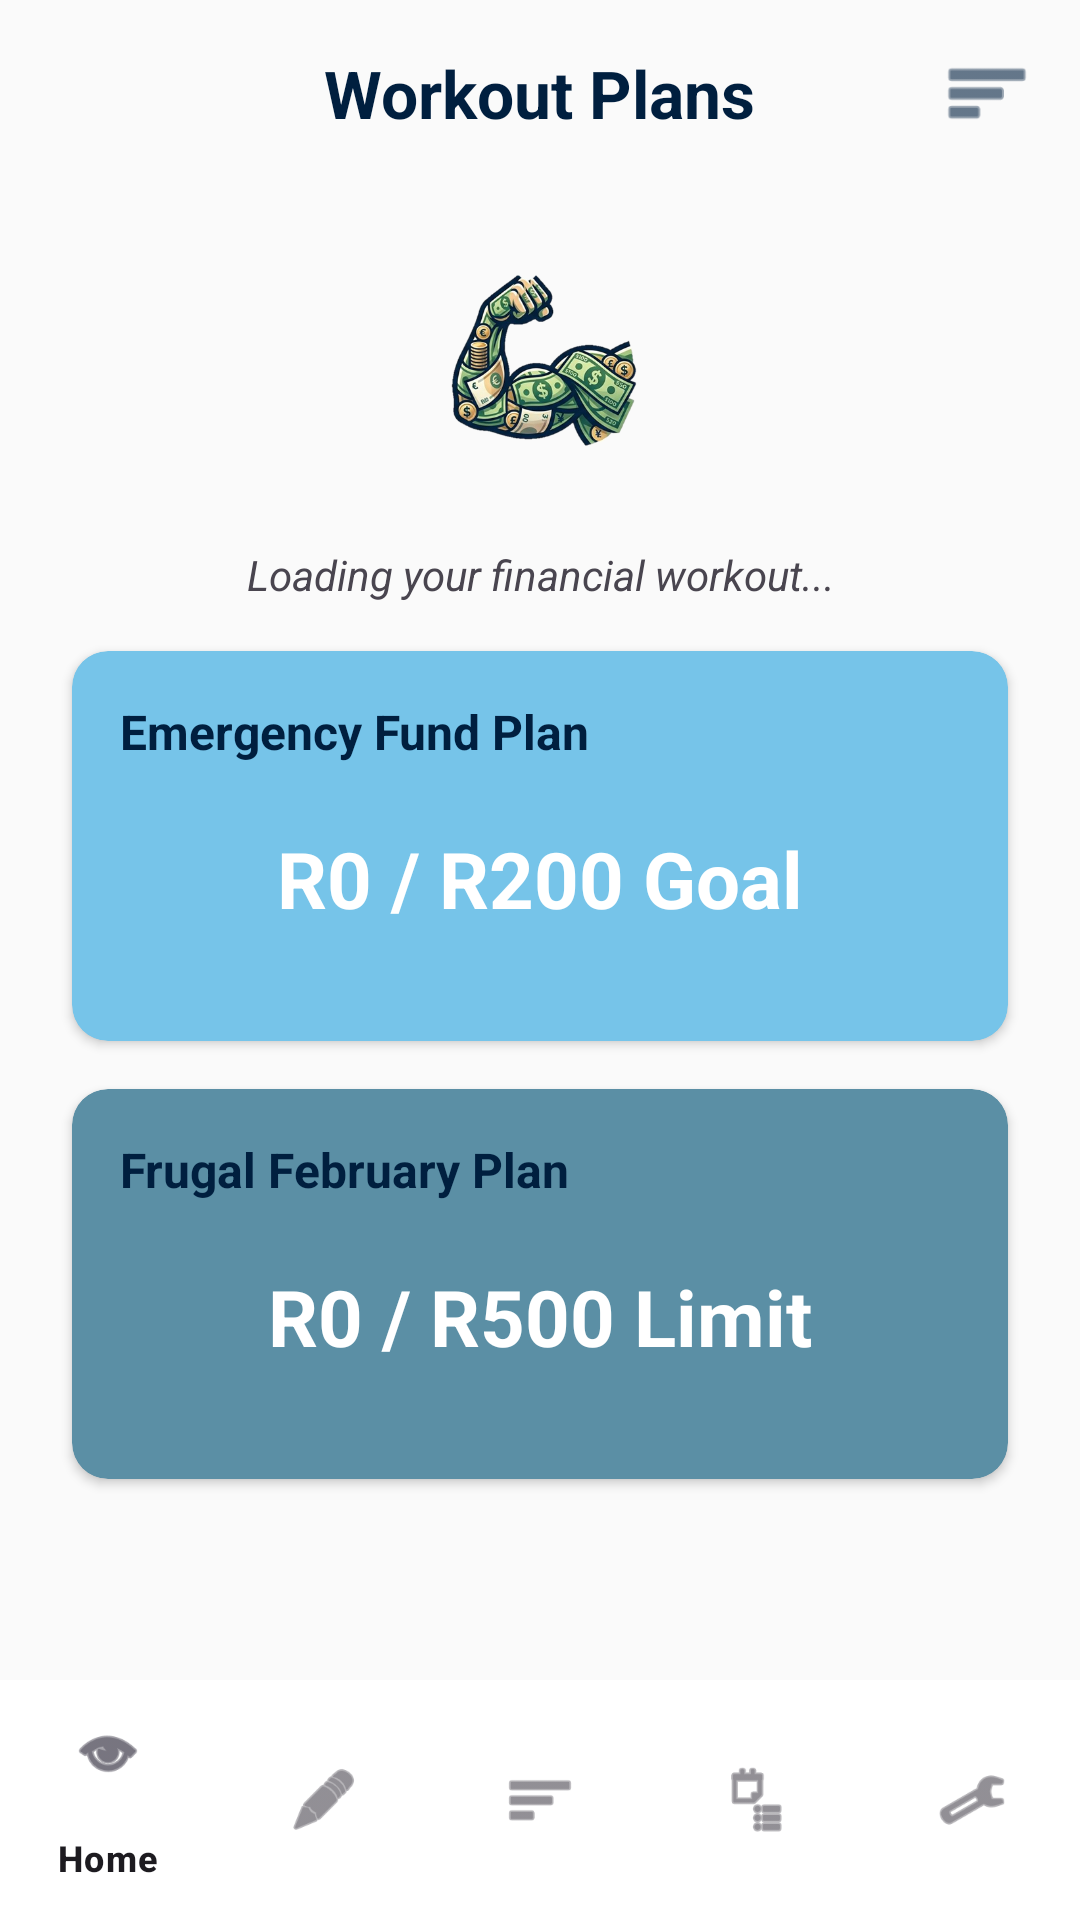

Named icons in this screenshot (1080*1920) and their bounding boxes, bbox(x1, y1, x2, y2):
money muscle: bbox(452, 275, 636, 446)
sort by size: bbox(948, 68, 1026, 119)
